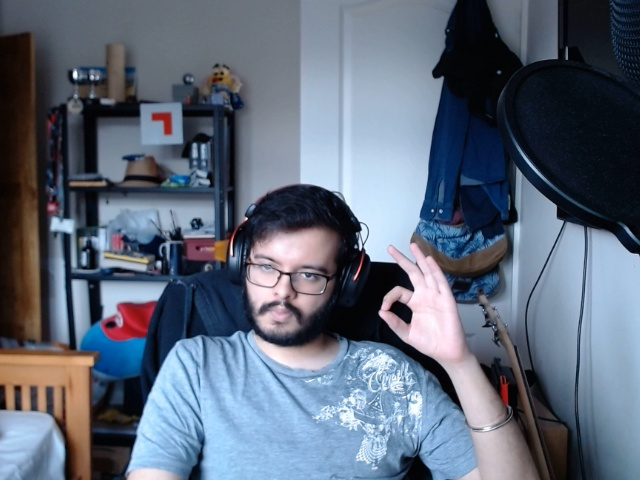Okay: (376, 241, 472, 365)
